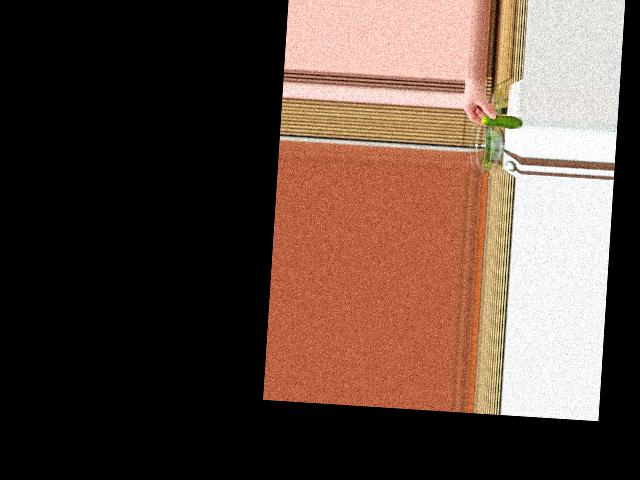cucumber: (481, 114, 522, 129)
